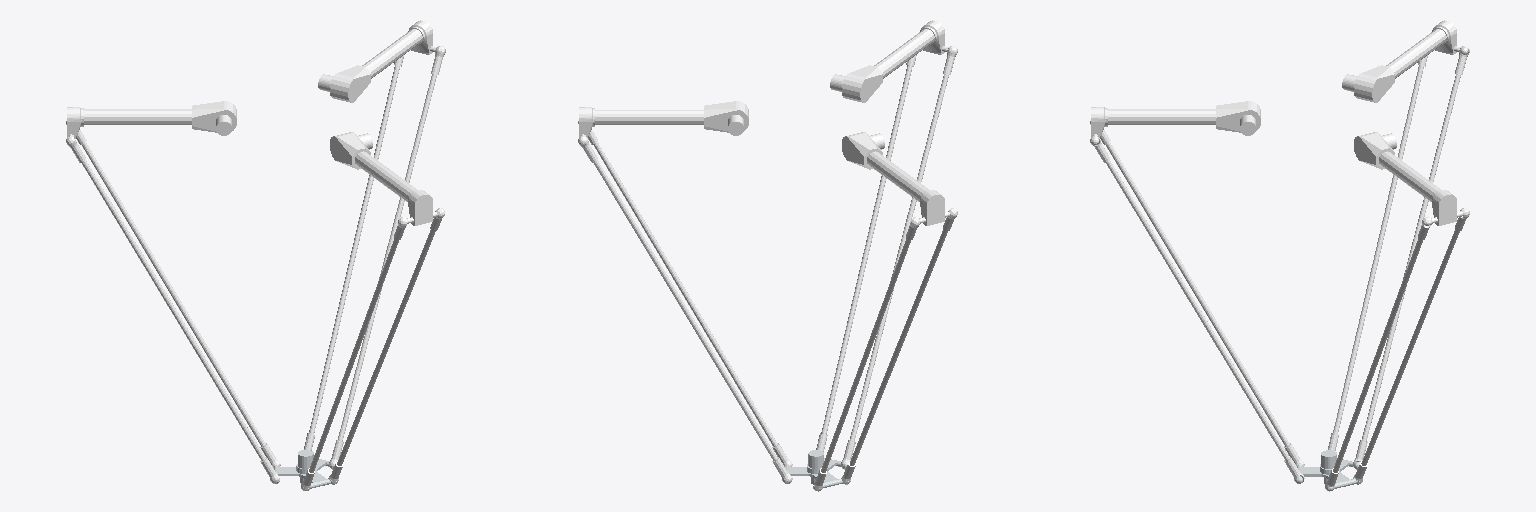
URDF robot description (delta):
<?xml version="1.0" encoding="utf-8"?>
<!-- This URDF was automatically created by SolidWorks to URDF Exporter! Originally created by [author] ([email redacted]) 
     Commit Version: 1.6.0-4-g7f85cfe  Build Version: 1.6.7995.38578
     For more information, please see http://wiki.ros.org/sw_urdf_exporter -->
<robot
  name="delta">
  <link name="world"/>
  <joint
    name="world_base_link"
    type="fixed">
    <parent
      link="world" />
    <child
      link="base_link" />
  </joint>
  <link
    name="base_link">
    <inertial>
      <origin
        xyz="0.380382316067151 -0.533525806735634 0.659302816292224"
        rpy="0 0 0" />
      <mass
        value="156.163072577183" />
      <inertia
        ixx="7.59889681143528"
        ixy="9.24660486508239E-05"
        ixz="-0.000259409545018871"
        iyy="7.59824264740178"
        iyz="0.000102275137498633"
        izz="10.3617884952824" />
    </inertial>
    <visual>
      <origin
        xyz="0 0 0"
        rpy="0 0 0" />
      <geometry>
        <mesh
          filename="package://delta/meshes/base_link.STL" />
      </geometry>
      <material
        name="">
        <color
          rgba="1 1 1 1" />
      </material>
    </visual>
    <collision>
      <origin
        xyz="0 0 0"
        rpy="0 0 0" />
      <geometry>
        <mesh
          filename="package://delta/meshes/base_link.STL" />
      </geometry>
    </collision>
  </link>
  <link
    name="arm1u_link">
    <inertial>
      <origin
        xyz="0.114792252146981 0.00182152585989626 0.0495423331065887"
        rpy="0 0 0" />
      <mass
        value="0.646884412038515" />
      <inertia
        ixx="0.000166776951356192"
        ixy="-0.000187543246495443"
        ixz="-4.04262175310576E-09"
        iyy="0.00675559133337473"
        iyz="6.15021017819242E-11"
        izz="0.00677709143476231" />
    </inertial>
    <visual>
      <origin
        xyz="0 0 0"
        rpy="0 0 0" />
      <geometry>
        <mesh
          filename="package://delta/meshes/arm1u_link.STL" />
      </geometry>
      <material
        name="">
        <color
          rgba="1 1 1 1" />
      </material>
    </visual>
    <collision>
      <origin
        xyz="0 0 0"
        rpy="0 0 0" />
      <geometry>
        <mesh
          filename="package://delta/meshes/arm1u_link.STL" />
      </geometry>
    </collision>
  </link>
  <joint
    name="arm1u_joint"
    type="revolute">
    <origin
      xyz="0.332874358144467 -0.683521580995339 0.398756986704061"
      rpy="-1.5707963267949 0 -1.5707963267949" />
    <parent
      link="base_link" />
    <child
      link="arm1u_link" />
    <axis
      xyz="0 0 1" />
    <limit
      lower="0"
      upper="3.1416"
      effort="0"
      velocity="0" />
  </joint>
  <link name="arm1h_link" >
    <inertial>
      <mass value="0.1"/>
      <inertia
        ixx="1"
        ixy="1"
        ixz="1"
        iyy="1"
        iyz="1"
        izz="1" />
    </inertial>
  </link>
  <joint
    name="arm1h_joint"
    type="revolute">
    <origin
      xyz="0.285 0.028 0.047"
      rpy="1.5708 -1.5708 0" />
    <parent link="arm1u_link"/>
    <child link="arm1h_link"/>
    <axis xyz="1 0 0"/>
    <limit
      lower="-1"
      upper="1" 
      effort="0"
      velocity="0" />
  </joint>
  <joint
    name="arm11_joint"
    type="continuous">
    <origin
      xyz="-0.04 0 0" />
    <parent link="arm1h_link"/>
    <child link="arm11_link"/>
    <axis xyz="0 1 0"/>
  </joint>
    <joint
    name="arm12_joint"
    type="continuous">
    <origin
      xyz="0.04 0 0" />
    <parent link="arm1h_link"/>
    <child link="arm12_link"/>
    <axis xyz="0 1 0"/>
  </joint>
  <link
    name="arm11_link">
    <inertial>
      <origin
        xyz="-0.0151005260811973 0.196287921564387 -0.336929572799235"
        rpy="0 0 0" />
      <mass
        value="0.127460758319217" />
      <inertia
        ixx="0.00814693140460583"
        ixy="-4.92928019985575E-05"
        ixz="9.05596189880381E-05"
        iyy="0.0062881494959543"
        iyz="0.0034190184061498"
        izz="0.00186356030148952" />
    </inertial>
    <visual>
      <origin
        xyz="0.0205 -0.005 -0.012"
        rpy="0 0 0" />
      <geometry>
        <mesh
          filename="package://delta/meshes/arm11_link.STL" />
      </geometry>
      <material
        name="">
        <color
          rgba="1 1 1 1" />
      </material>
    </visual>
    <collision>
      <origin
        xyz="0 0 0"
        rpy="0 0 0" />
      <geometry>
        <mesh
          filename="package://delta/meshes/arm11_link.STL" />
      </geometry>
    </collision>
  </link>
  <link
    name="arm11_spider_link">
    <inertial>
      <origin
        xyz="0.016 0.0550000002696336 0.00234510079557038"
        rpy="0 0 0" />
      <mass
        value="0.207397112440021" />
      <inertia
        ixx="0.000172568881403432"
        ixy="-4.07679263921255E-19"
        ixz="-4.12890466512252E-20"
        iyy="0.00017256884108883"
        iyz="3.89811473984236E-13"
        izz="0.000277154102529209" />
    </inertial>
    <visual>
      <origin
        xyz="0.017 0 0.002"
        rpy="0 0 0" />
      <geometry>
        <mesh
          filename="package://delta/meshes/arm11_spider_link.STL" />
      </geometry>
      <material
        name="">
        <color
          rgba="0.898039215686275 0.917647058823529 0.929411764705882 1" />
      </material>
    </visual>
    <collision>
      <origin
        xyz="0 0 0"
        rpy="0 0 0" />
      <geometry>
        <mesh
          filename="package://delta/meshes/arm11_spider_link.STL" />
      </geometry>
    </collision>
  </link>
  <joint
    name="arm11_spider_joint"
    type="continuous">
    <origin
      xyz="0.01 0.38 -0.695"
      rpy="0 0 0" />
    <parent
      link="arm11_link" />
    <child
      link="arm11_spider_link" />
    <axis
      xyz="1 0 0" />
  </joint>
  <link
    name="arm12_link">
    <inertial>
      <origin
        xyz="0.0149009633527306 0.196209132849916 -0.33696955808221"
        rpy="0 0 0" />
      <mass
        value="0.127460758197968" />
      <inertia
        ixx="0.00814692981417886"
        ixy="4.92940499340967E-05"
        ixz="-9.05589094550425E-05"
        iyy="0.0062881507189424"
        iyz="0.00341901905662901"
        izz="0.00186356064655539" />
    </inertial>
    <visual>
      <origin
        xyz="-0.0205 -0.005 -0.012"
        rpy="0 0 0" />
      <geometry>
        <mesh
          filename="package://delta/meshes/arm12_link.STL" />
      </geometry>
      <material
        name="">
        <color
          rgba="1 1 1 1" />
      </material>
    </visual>
    <collision>
      <origin
        xyz="0 0 0"
        rpy="0 0 0" />
      <geometry>
        <mesh
          filename="package://delta/meshes/arm12_link.STL" />
      </geometry>
    </collision>
  </link>
  <link
    name="arm2u_link">
    <inertial>
      <origin
        xyz="0.114792190956305 -0.00182152531048957 -0.0251673198673808"
        rpy="0 0 0" />
      <mass
        value="0.646883970811699" />
      <inertia
        ixx="0.000166776836705843"
        ixy="0.000187543268799503"
        ixz="3.21501578687261E-09"
        iyy="0.00675558779094133"
        iyz="3.68581727496335E-11"
        izz="0.00677708810261762" />
    </inertial>
    <visual>
      <origin
        xyz="0 0 0"
        rpy="0 0 0" />
      <geometry>
        <mesh
          filename="package://delta/meshes/arm2u_link.STL" />
      </geometry>
      <material
        name="">
        <color
          rgba="1 1 1 1" />
      </material>
    </visual>
    <collision>
      <origin
        xyz="0 0 0"
        rpy="0 0 0" />
      <geometry>
        <mesh
          filename="package://delta/meshes/arm2u_link.STL" />
      </geometry>
    </collision>
  </link>
  <joint
    name="arm2u_joint"
    type="revolute">
    <origin
      xyz="0.26203 -0.43849 0.39876"
      rpy="1.5708 0 2.618" />
    <parent
      link="base_link" />
    <child
      link="arm2u_link" />
    <axis
      xyz="0 0 1" />
    <limit
      lower="-3.1416"
      upper="0"
      effort="0"
      velocity="0" />
  </joint>
  <link
    name="arm21_link">
    <inertial>
      <origin
        xyz="-0.0149337877385725 0.196173393877676 -0.33698948069346"
        rpy="0 0 0" />
      <mass
        value="0.127460758272507" />
      <inertia
        ixx="0.00814690103546067"
        ixy="-4.92996198580384E-05"
        ixz="9.05557693323212E-05"
        iyy="0.00628817272220904"
        iyz="0.00341903127869353"
        izz="0.00186356743546608" />
    </inertial>
    <visual>
      <origin
        xyz="0.0205 -0.005 -0.012"
        rpy="0 0 0" />
      <geometry>
        <mesh
          filename="package://delta/meshes/arm21_link.STL" />
      </geometry>
      <material
        name="">
        <color
          rgba="1 1 1 1" />
      </material>
    </visual>
    <collision>
      <origin
        xyz="0 0 0"
        rpy="0 0 0" />
      <geometry>
        <mesh
          filename="package://delta/meshes/arm21_link.STL" />
      </geometry>
    </collision>
  </link>
  <joint
    name="arm21_joint"
    type="revolute">
    <origin
      xyz="0.285 -0.028 0.017375"
      rpy="-1.5708 1.5708 0" />
    <parent
      link="arm2u_link" />
    <child
      link="arm21_link" />
    <axis
      xyz="1 0 0" />
    <limit
      lower="-1"
      upper="1"
      effort="0"
      velocity="0" />
  </joint>
  <link
    name="arm22_link">
    <inertial>
      <origin
        xyz="0.0150335623413876 0.196158983361336 -0.336998756966697"
        rpy="0 0 0" />
      <mass
        value="0.127460758697646" />
      <inertia
        ixx="0.00814688379562211"
        ixy="4.92563063294823E-05"
        ixz="-9.05786464641641E-05"
        iyy="0.00628818562513337"
        iyz="0.00341903885912145"
        izz="0.00186357184839554" />
    </inertial>
    <visual>
      <origin
        xyz="-0.0205 -0.005 -0.012"
        rpy="0 0 0" />
      <geometry>
        <mesh
          filename="package://delta/meshes/arm22_link.STL" />
      </geometry>
      <material
        name="">
        <color
          rgba="1 1 1 1" />
      </material>
    </visual>
    <collision>
      <origin
        xyz="0 0 0"
        rpy="0 0 0" />
      <geometry>
        <mesh
          filename="package://delta/meshes/arm22_link.STL" />
      </geometry>
    </collision>
  </link>
  <joint
    name="arm22_joint"
    type="revolute">
    <origin
      xyz="0.285 -0.028 -0.063625"
      rpy="-1.5708 1.5708 0" />
    <parent
      link="arm2u_link" />
    <child
      link="arm22_link" />
    <axis
      xyz="1 0 0" />
    <limit
      lower="-1"
      upper="1"
      effort="0"
      velocity="0" />
  </joint>
  <link
    name="arm3u_link">
    <inertial>
      <origin
        xyz="0.114792221305797 -0.00182152765219995 0.184356660884915"
        rpy="0 0 0" />
      <mass
        value="0.646884127953808" />
      <inertia
        ixx="0.000166777031838413"
        ixy="0.000187543435284817"
        ixz="4.36611667900175E-09"
        iyy="0.00675559025398927"
        iyz="7.91226247931834E-11"
        izz="0.00677709036650217" />
    </inertial>
    <visual>
      <origin
        xyz="0 0 0"
        rpy="0 0 0" />
      <geometry>
        <mesh
          filename="package://delta/meshes/arm3u_link.STL" />
      </geometry>
      <material
        name="">
        <color
          rgba="1 1 1 1" />
      </material>
    </visual>
    <collision>
      <origin
        xyz="0 0 0"
        rpy="0 0 0" />
      <geometry>
        <mesh
          filename="package://delta/meshes/arm3u_link.STL" />
      </geometry>
    </collision>
  </link>
  <joint
    name="arm3u_joint"
    type="revolute">
    <origin
      xyz="0.417078668164106 -0.297095310806117 0.398756986704061"
      rpy="1.5707963267949 0 0.523598775598305" />
    <parent
      link="base_link" />
    <child
      link="arm3u_link" />
    <axis
      xyz="0 0 1" />
    <limit
      lower="-3.1416"
      upper="0"
      effort="0"
      velocity="0" />
  </joint>
  <link
    name="arm31_link">
    <inertial>
      <origin
        xyz="-0.0149753633398072 0.196343241690027 -0.336897668988324"
        rpy="0 0 0" />
      <mass
        value="0.127460758755479" />
      <inertia
        ixx="0.00814688104191047"
        ixy="-4.92603272500584E-05"
        ixz="9.05764137202415E-05"
        iyy="0.00628818782208854"
        iyz="0.00341903997839666"
        izz="0.00186357241522575" />
    </inertial>
    <visual>
      <origin
        xyz="0.0205 -0.005 -0.012"
        rpy="0 0 0" />
      <geometry>
        <mesh
          filename="package://delta/meshes/arm31_link.STL" />
      </geometry>
      <material
        name="">
        <color
          rgba="1 1 1 1" />
      </material>
    </visual>
    <collision>
      <origin
        xyz="0 0 0"
        rpy="0 0 0" />
      <geometry>
        <mesh
          filename="package://delta/meshes/arm31_link.STL" />
      </geometry>
    </collision>
  </link>
  <joint
    name="arm31_joint"
    type="revolute">
    <origin
      xyz="0.285 -0.028 0.2269"
      rpy="-1.5708 1.5708 0" />
    <parent
      link="arm3u_link" />
    <child
      link="arm31_link" />
    <axis
      xyz="1 0 0" />
    <limit
      lower="-1"
      upper="1"
      effort="0"
      velocity="0" />
  </joint>
  <link
    name="arm32_link">
    <inertial>
      <origin
        xyz="0.015109117469074 0.196251933598046 -0.33694927538221"
        rpy="0 0 0" />
      <mass
        value="0.127460758699228" />
      <inertia
        ixx="0.00814694099722032"
        ixy="4.9273743599918E-05"
        ixz="-9.05702265426356E-05"
        iyy="0.00628814155657333"
        iyz="0.00341901478439211"
        izz="0.0018635587153562" />
    </inertial>
    <visual>
      <origin
        xyz="-0.0205 -0.005 -0.012"
        rpy="0 0 0" />
      <geometry>
        <mesh
          filename="package://delta/meshes/arm32_link.STL" />
      </geometry>
      <material
        name="">
        <color
          rgba="1 1 1 1" />
      </material>
    </visual>
    <collision>
      <origin
        xyz="0 0 0"
        rpy="0 0 0" />
      <geometry>
        <mesh
          filename="package://delta/meshes/arm32_link.STL" />
      </geometry>
    </collision>
  </link>
  <joint
    name="arm32_joint"
    type="revolute">
    <origin
      xyz="0.285 -0.028 0.1459"
      rpy="-1.5708 1.5708 0" />
    <parent
      link="arm3u_link" />
    <child
      link="arm32_link" />
    <axis
      xyz="1 0 0" />
    <limit
      lower="-1"
      upper="1"
      effort="0"
      velocity="0" />
  </joint>
</robot>

--- Render facts (derived) ---
The picture shows the robot from 3 angles, left to right: view 1: azimuth 30°, elevation 25°; view 2: azimuth 150°, elevation 25°; view 3: azimuth 270°, elevation 25°; orthographic projection.
Robot: delta — 13 links, 12 joints (8 revolute, 3 continuous, 1 fixed); root link world; default pose: every joint at zero.
Visible links, largest first — view 1: arm2u_link, arm1u_link, arm3u_link, arm22_link, arm21_link, arm32_link, arm31_link, arm12_link, arm11_link, arm11_spider_link; view 2: arm3u_link, arm2u_link, arm1u_link, arm32_link, arm31_link, arm12_link, arm11_link, arm22_link, arm21_link, arm11_spider_link; view 3: arm1u_link, arm3u_link, arm2u_link, arm12_link, arm11_link, arm22_link, arm21_link, arm31_link, arm32_link, arm11_spider_link.
Link boxes in pixels (x1,y1,x2,y2): arm2u_link: (67, 101, 236, 138); arm1u_link: (330, 132, 437, 225); arm3u_link: (318, 20, 436, 102); arm22_link: (66, 136, 279, 483); arm21_link: (66, 121, 280, 467); arm32_link: (304, 37, 403, 450); arm31_link: (329, 46, 445, 469); arm12_link: (328, 208, 444, 484); arm11_link: (301, 217, 407, 490); arm11_spider_link: (274, 450, 330, 488); arm3u_link: (579, 101, 748, 137); arm2u_link: (842, 132, 949, 225); arm1u_link: (830, 20, 948, 102); arm32_link: (578, 136, 792, 483); arm31_link: (578, 121, 792, 466); arm12_link: (816, 55, 916, 451); arm11_link: (841, 46, 957, 469); arm22_link: (841, 208, 957, 484); arm21_link: (813, 217, 920, 491); arm11_spider_link: (785, 450, 842, 487); arm1u_link: (1091, 101, 1260, 144); arm3u_link: (1354, 132, 1463, 225); arm2u_link: (1342, 20, 1468, 102); arm12_link: (1090, 136, 1304, 482); arm11_link: (1090, 121, 1304, 466); arm22_link: (1328, 55, 1427, 450); arm21_link: (1353, 46, 1469, 468); arm31_link: (1325, 217, 1431, 489); arm32_link: (1353, 208, 1469, 483); arm11_spider_link: (1296, 450, 1359, 491).
Bounding box of the posed robot: 0.8086 × 0.7033 × 0.776 m (x, y, z).
10 mesh visuals loaded from 11 distinct referenced files (10 binary STL); not drawn: 1 (reference not matched to a file when rendering).